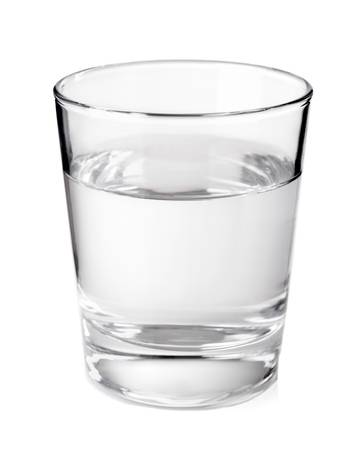glass of water: (50, 58, 317, 418)
